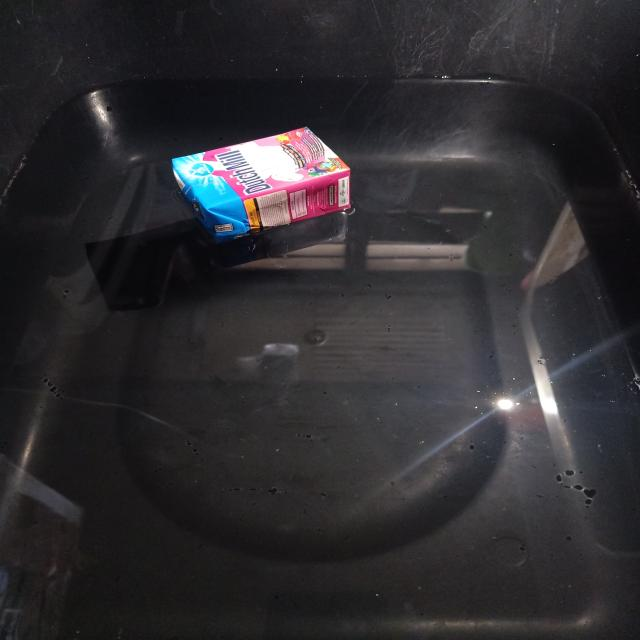Cardboard Box: (172, 128, 350, 243)
